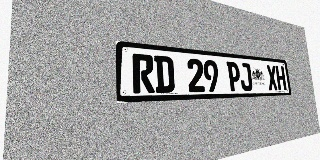2: (187, 58, 205, 92)
9: (203, 59, 220, 92)
D: (154, 55, 175, 93)
H: (275, 66, 287, 90)
J: (239, 62, 253, 91)
P: (226, 61, 241, 91)
R: (132, 53, 155, 93)
X: (266, 65, 278, 90)
